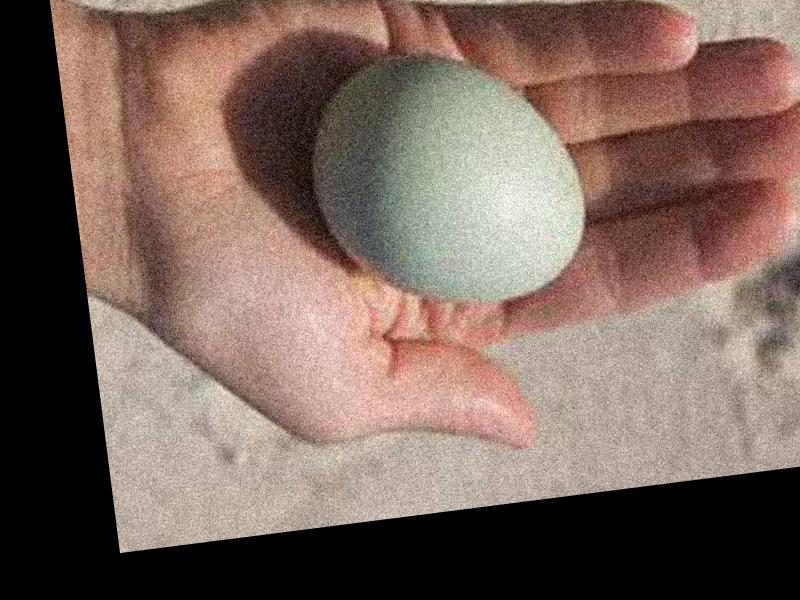Eggs: (304, 35, 588, 315)
